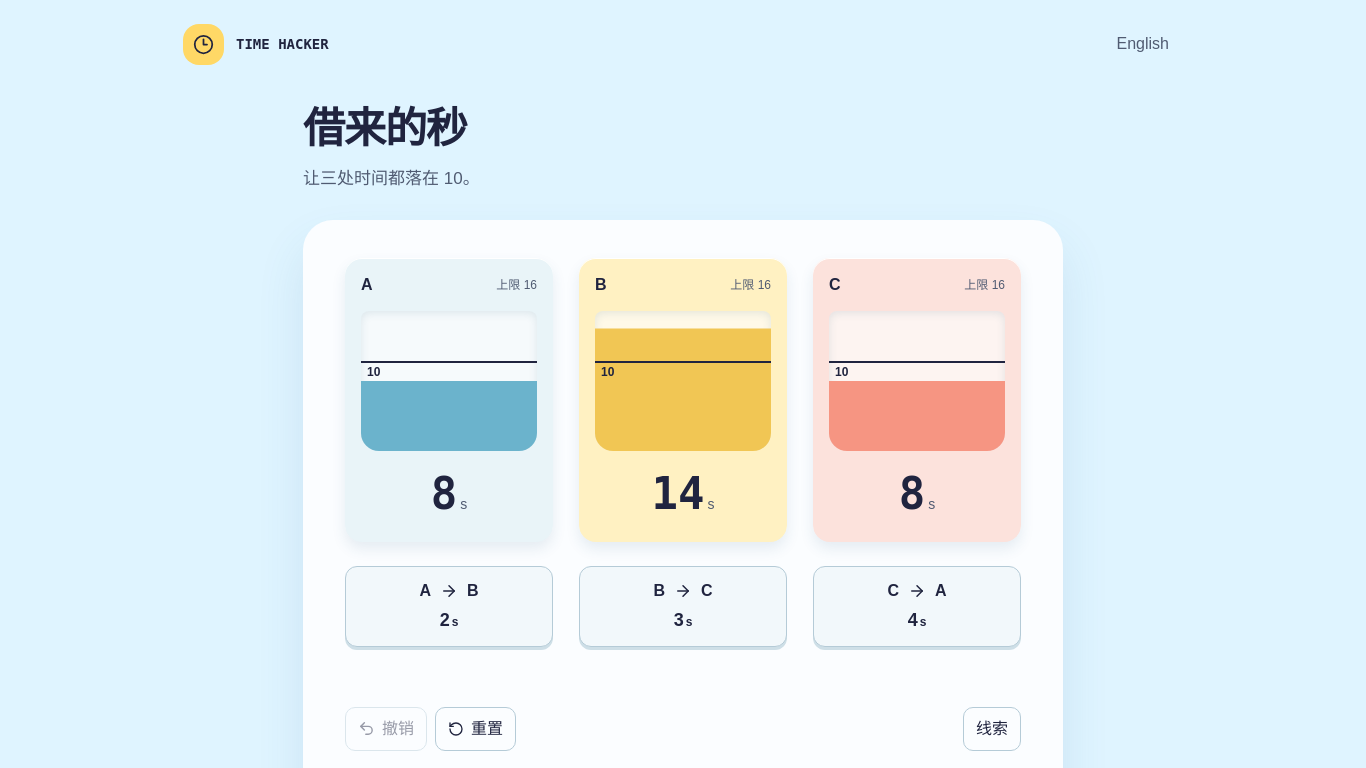
Test: reasoning lab interaction contract › starts without an answer and reveals hints only on request
The width and height of the screenshot is (1366, 768).
Click the button "线索" at (992, 729), box [963,707,1021,751]
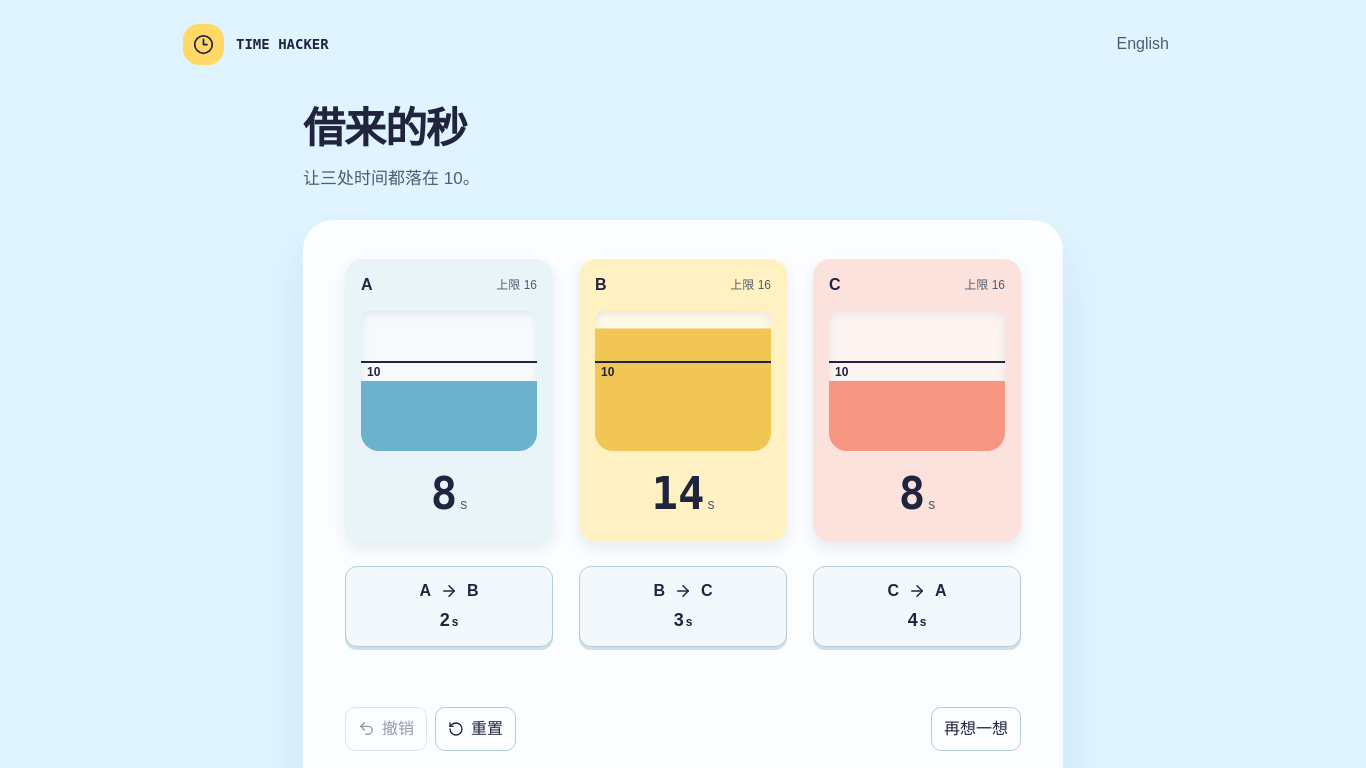
Click the button "再想一想" at (976, 729), box [931,707,1021,751]
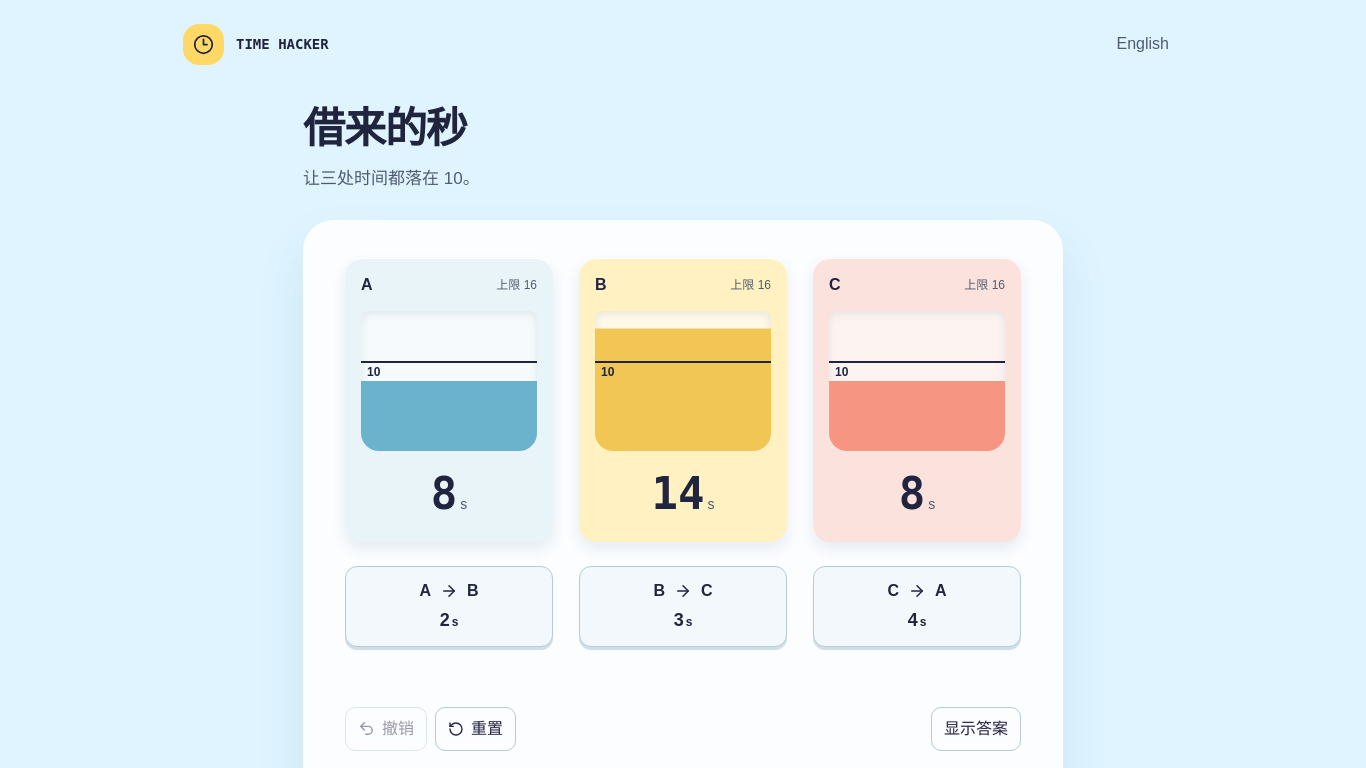
Click the button "显示答案" at (976, 729), box [931,707,1021,751]
(page scrolled)
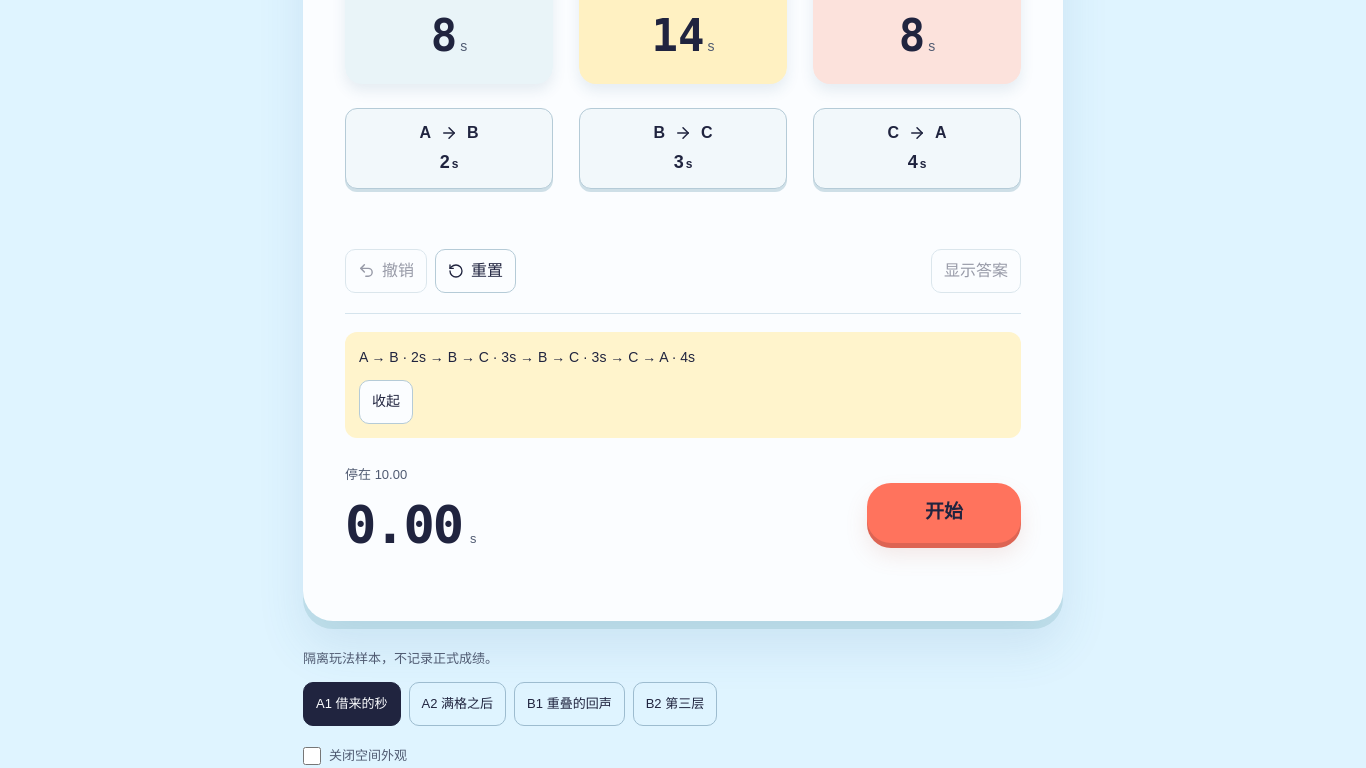
Expected: the element named "主动请求的提示" shows "A → B", [359,349,695,365]
